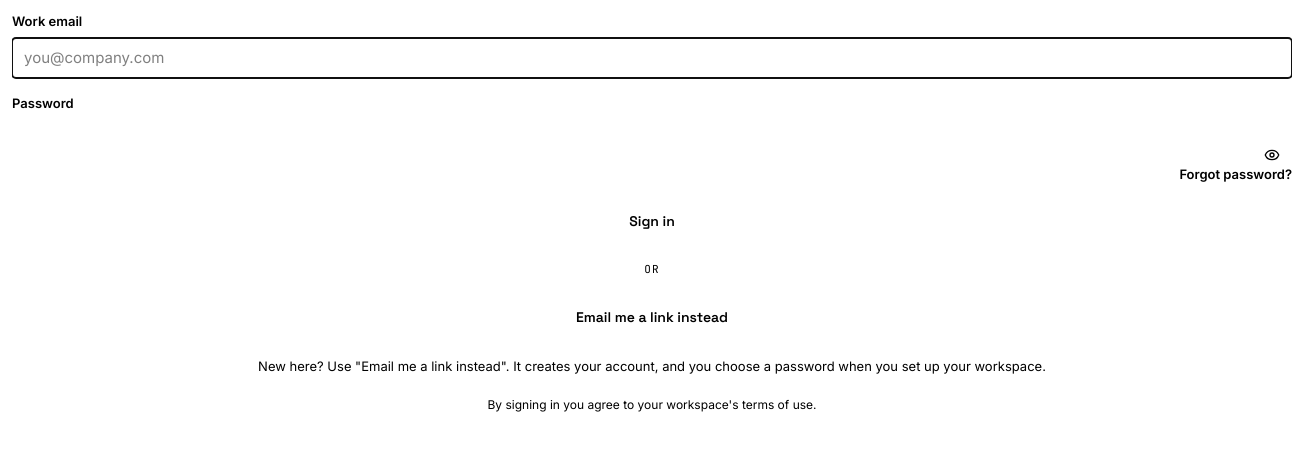
SignInForm › shows how long password sign-in is paused
Type "asha@example.com" into the field labelled "Work email" at x=652, y=58, box [12,38,1292,78]
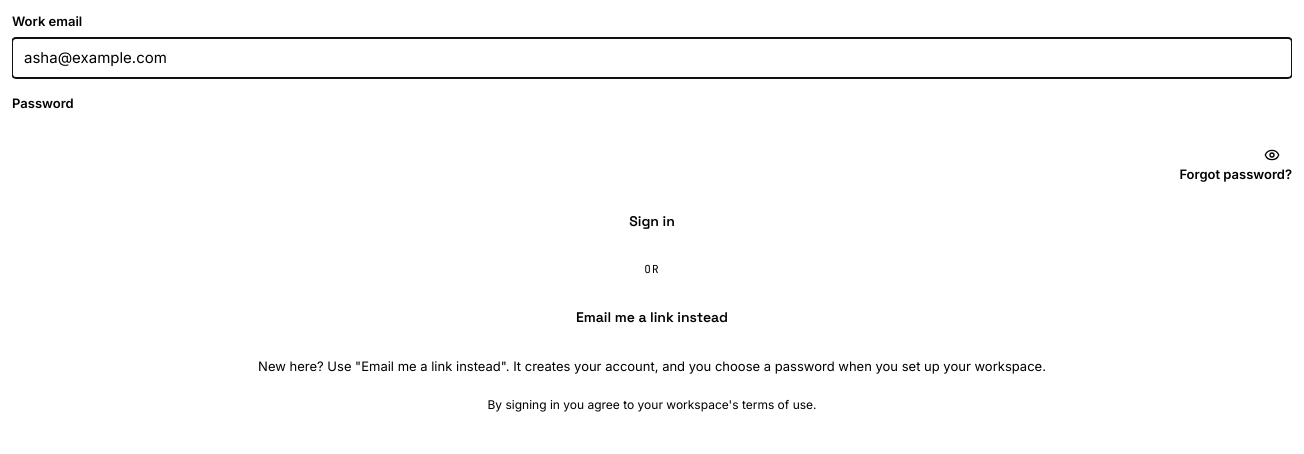
Type "mango-river-lantern" into the password field labelled "Password" at x=652, y=139, box [12,119,1292,159]
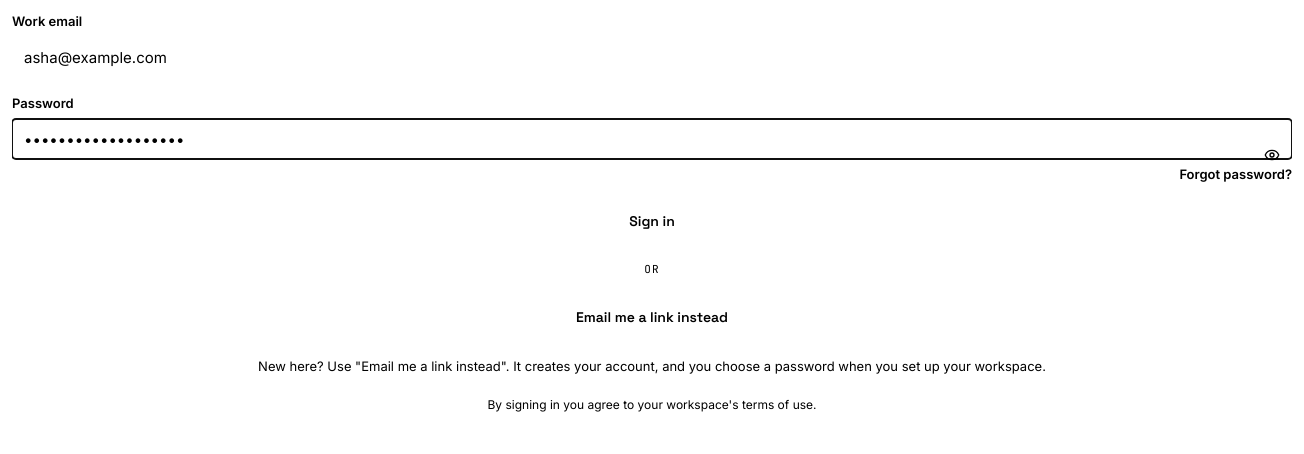
Click the button "Sign in" at x=652, y=220, box [12,200,1292,240]
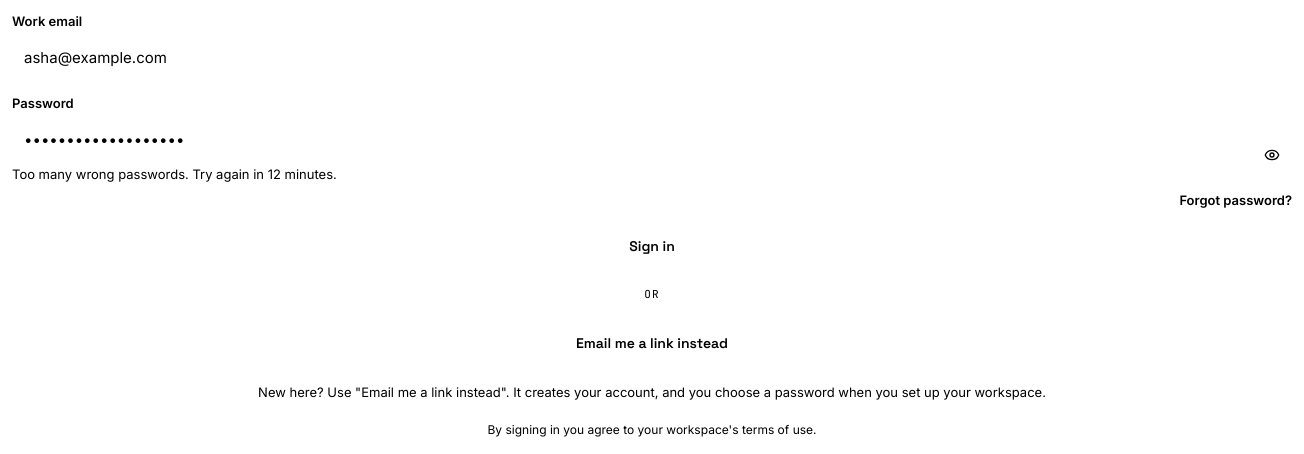
Expected: the message shows "Try again in 12 minutes", [12,166,337,182]
